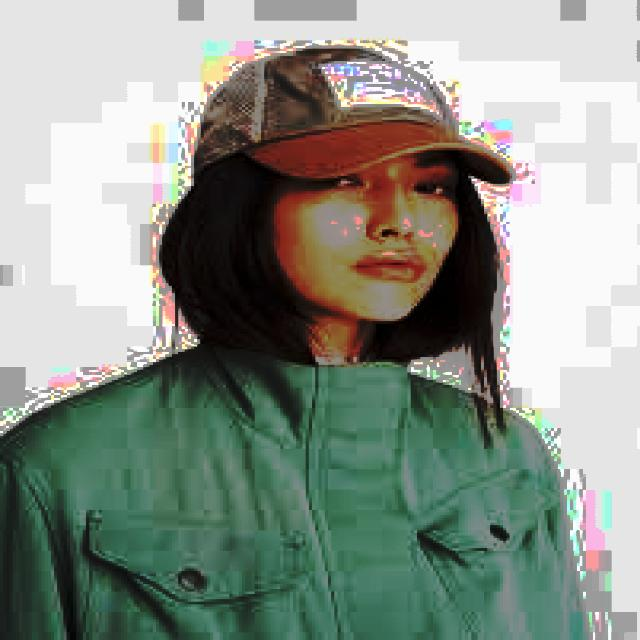TOPI: (172, 28, 543, 216)
